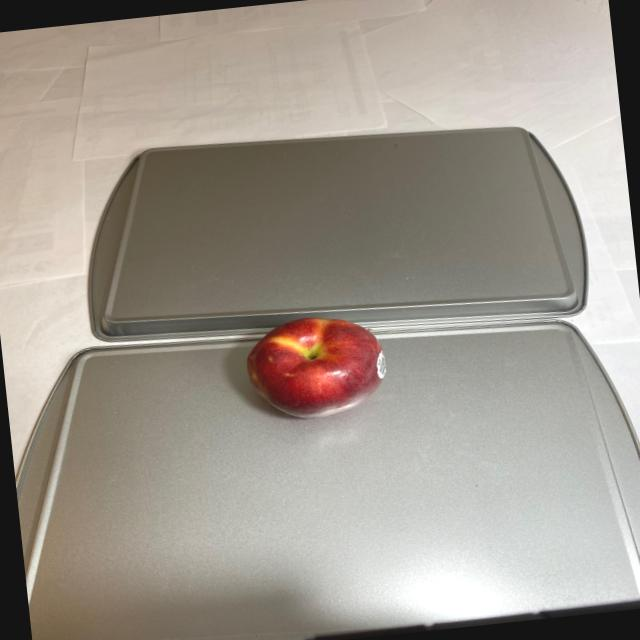apple: (236, 308, 388, 421)
